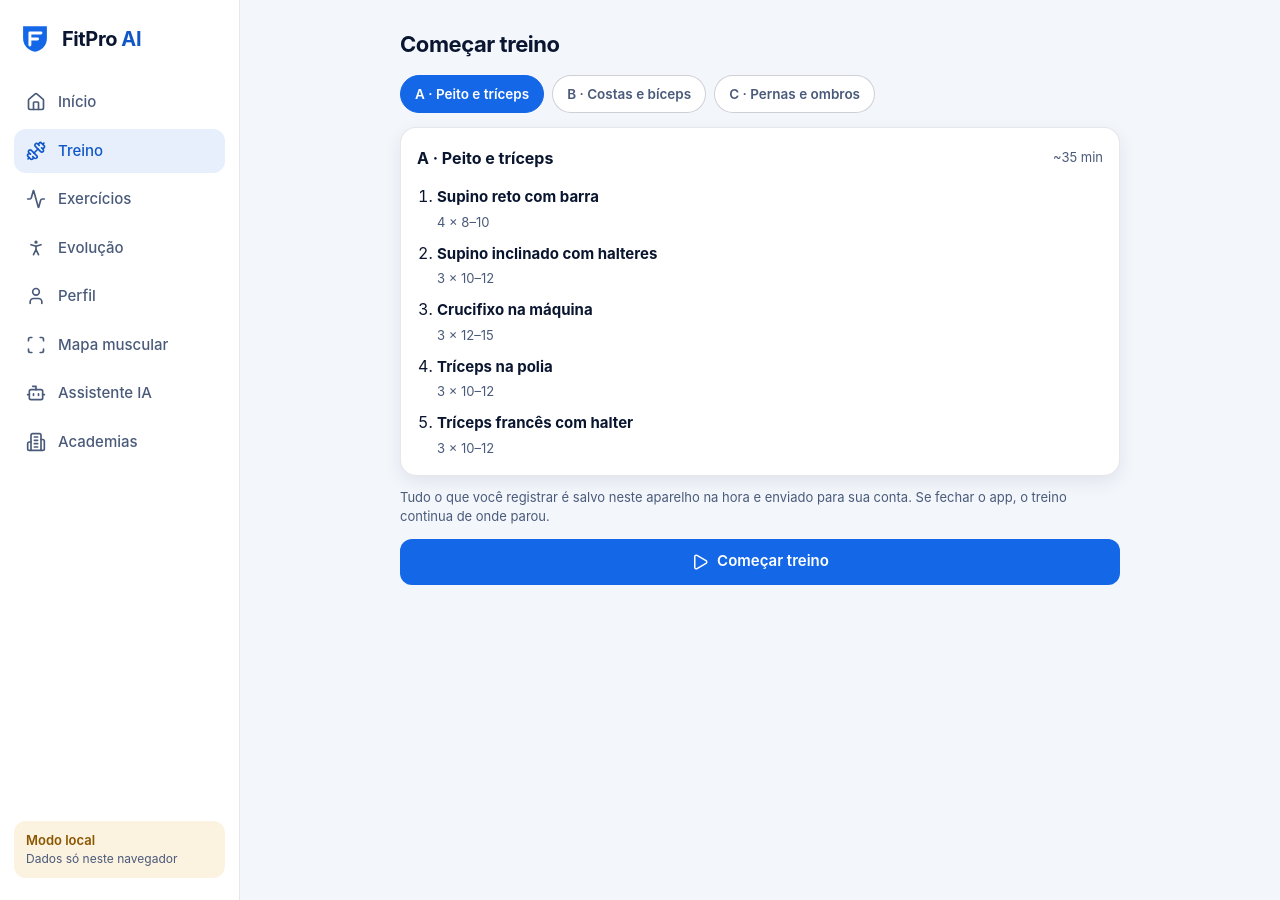
Test case: modo treino › pausa e retoma
Click the button "Começar treino" at [760, 562], box [400, 538, 1120, 584]
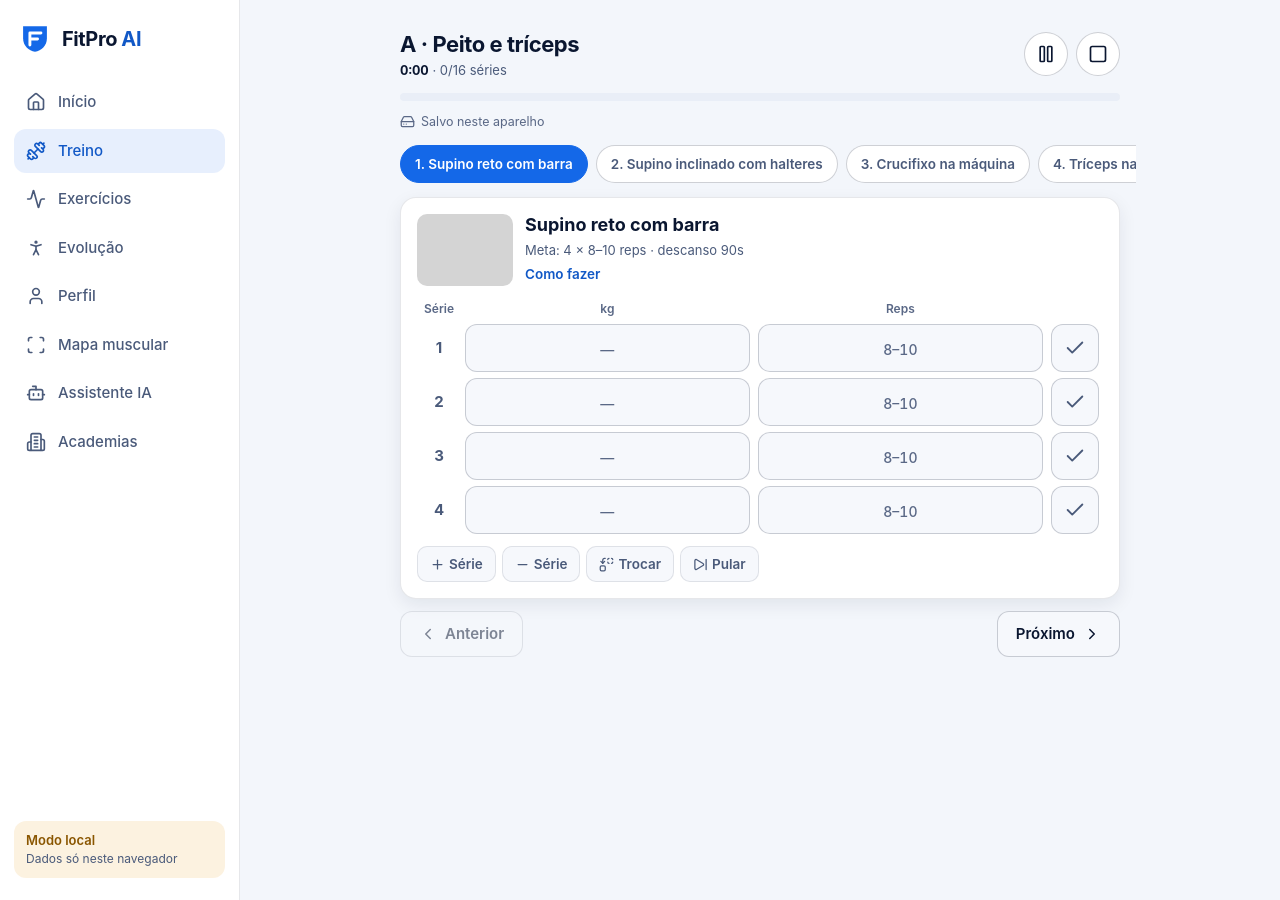
Click the button named "Pausar treino" at [1046, 54], box [1024, 32, 1068, 76]
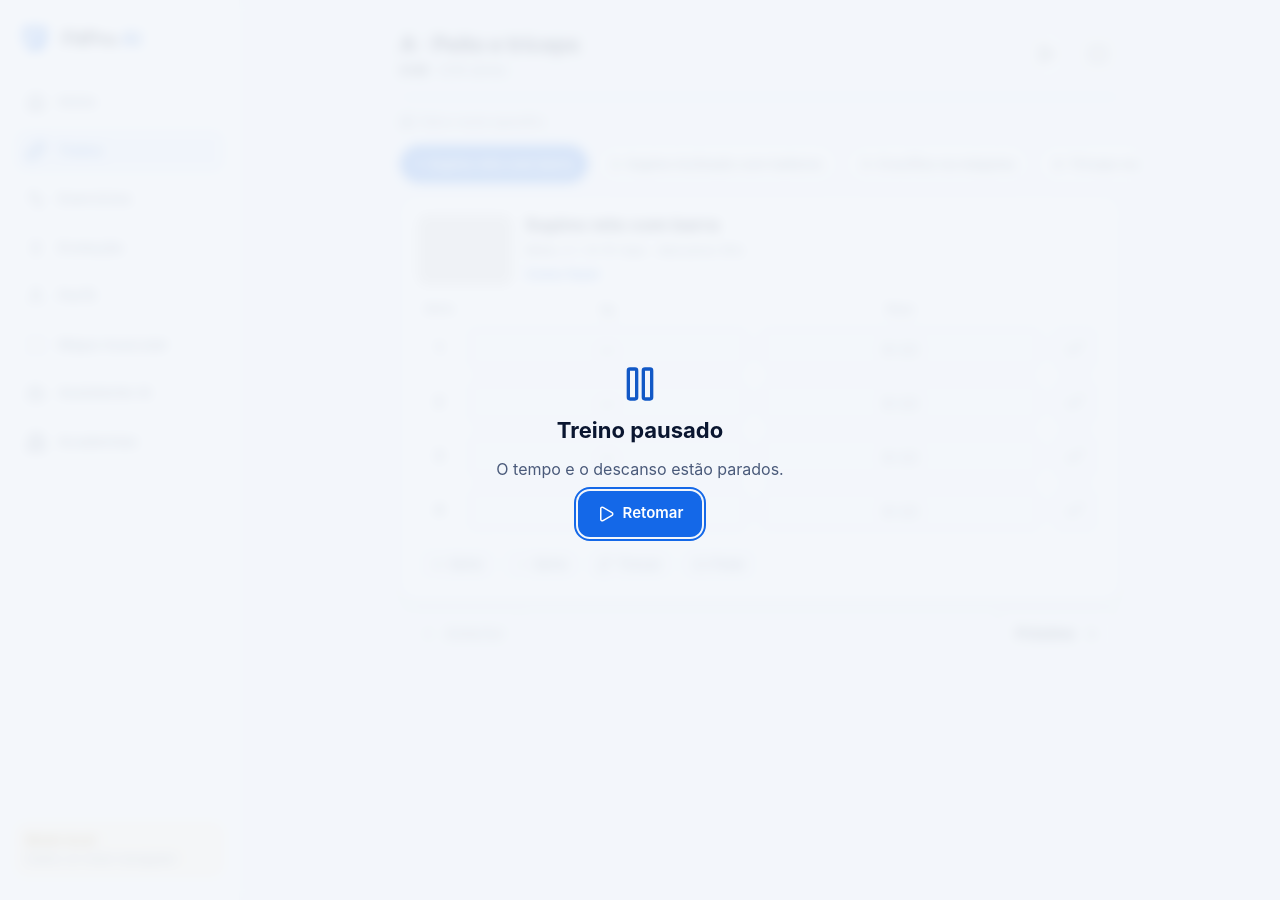
Expected: the dialog "Treino pausado" is shown
Click the button "Retomar" at [640, 514], box [578, 490, 702, 536]
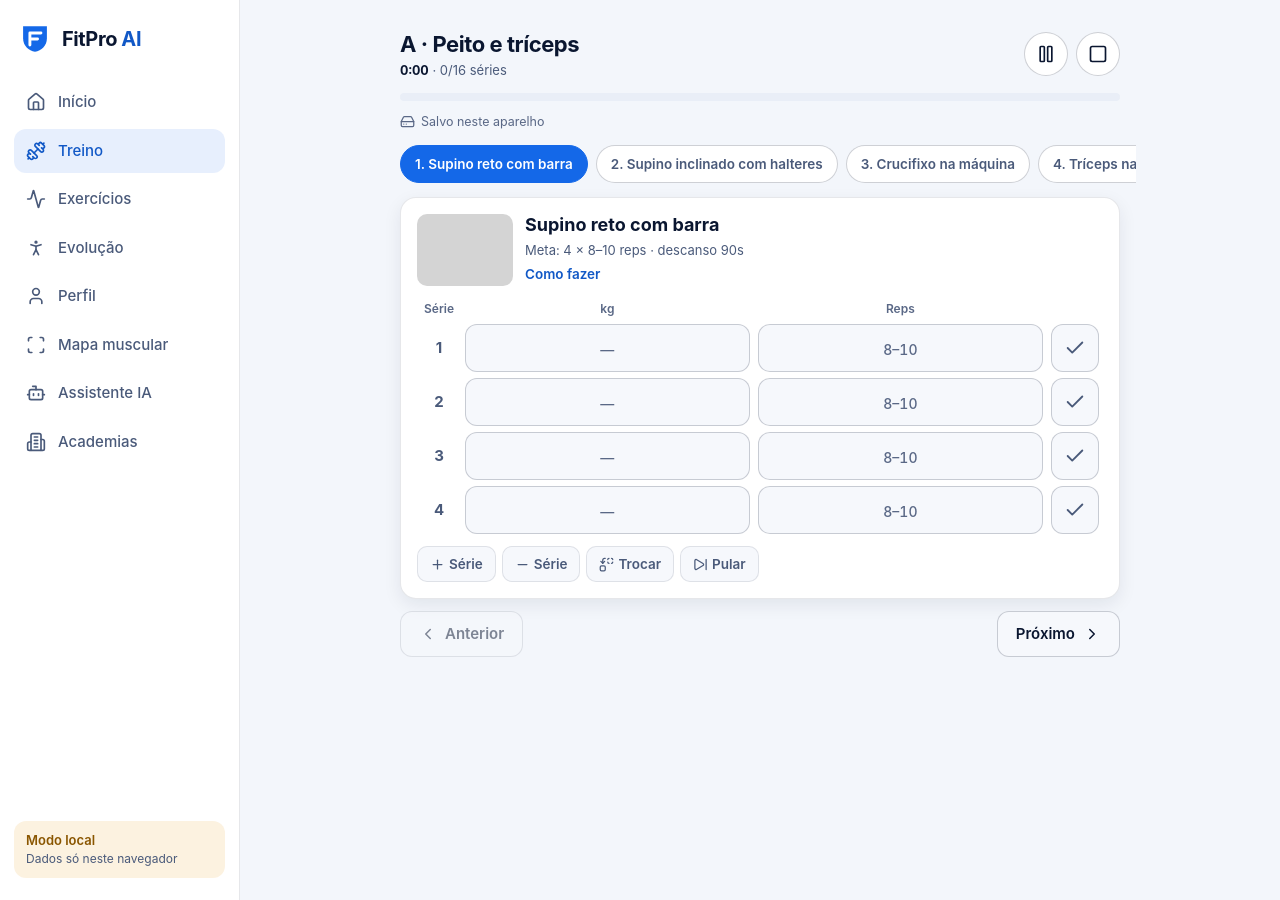
Expected: the dialog is gone
